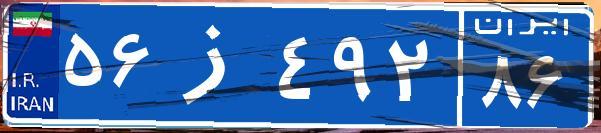2: (385, 28, 445, 110)
4: (273, 28, 330, 110)
5: (57, 26, 110, 107)
6: (110, 28, 158, 105), (525, 38, 570, 115)
8: (475, 38, 525, 113)
9: (330, 28, 385, 110)
ز: (158, 15, 273, 115)
